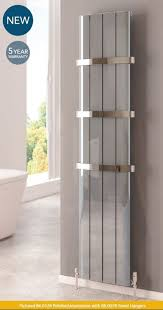Radiator: (72, 10, 139, 290)
